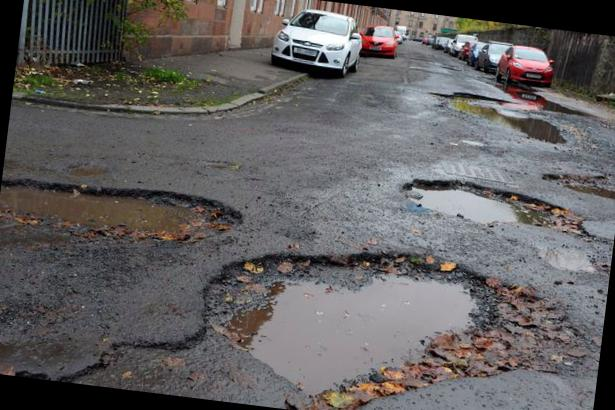pothole: (177, 218, 582, 410), (0, 153, 270, 278), (381, 166, 609, 256), (416, 79, 610, 163), (528, 163, 615, 210), (64, 152, 117, 183), (426, 56, 465, 78)
